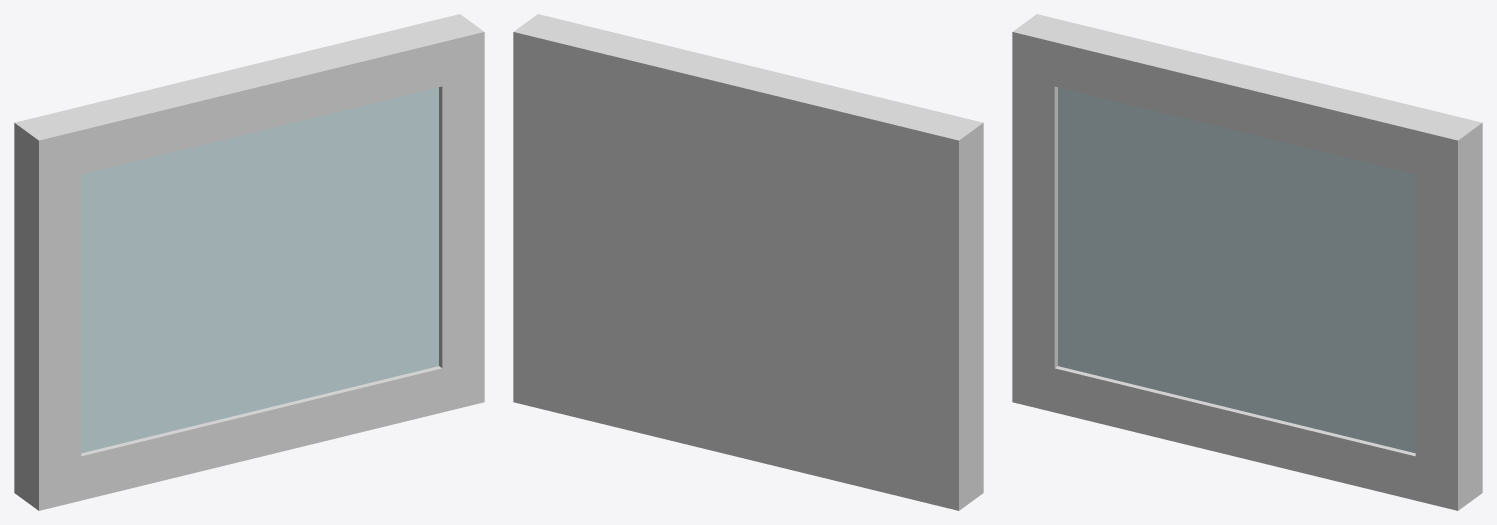
The model's file is Itr_Obj_Laptop_Screen_on_04.FBX.
3 views of the same model, side by side, from view 1: azimuth 30°, elevation 25°; view 2: azimuth 150°, elevation 25°; view 3: azimuth 330°, elevation 25° (orthographic).
Parts seen in each view (by area): view 1: Itr_Obj_Laptop_Screen_on_04; view 2: Itr_Obj_Laptop_Screen_on_04; view 3: Itr_Obj_Laptop_Screen_on_04.
Boxes of the visible parts, bbox=[...] form: Itr_Obj_Laptop_Screen_on_04: bbox=[14, 14, 484, 510]; Itr_Obj_Laptop_Screen_on_04: bbox=[513, 14, 983, 510]; Itr_Obj_Laptop_Screen_on_04: bbox=[1012, 14, 1482, 510].
Size of the model in its own units: 29.1 by 23.12 by 2.77.
